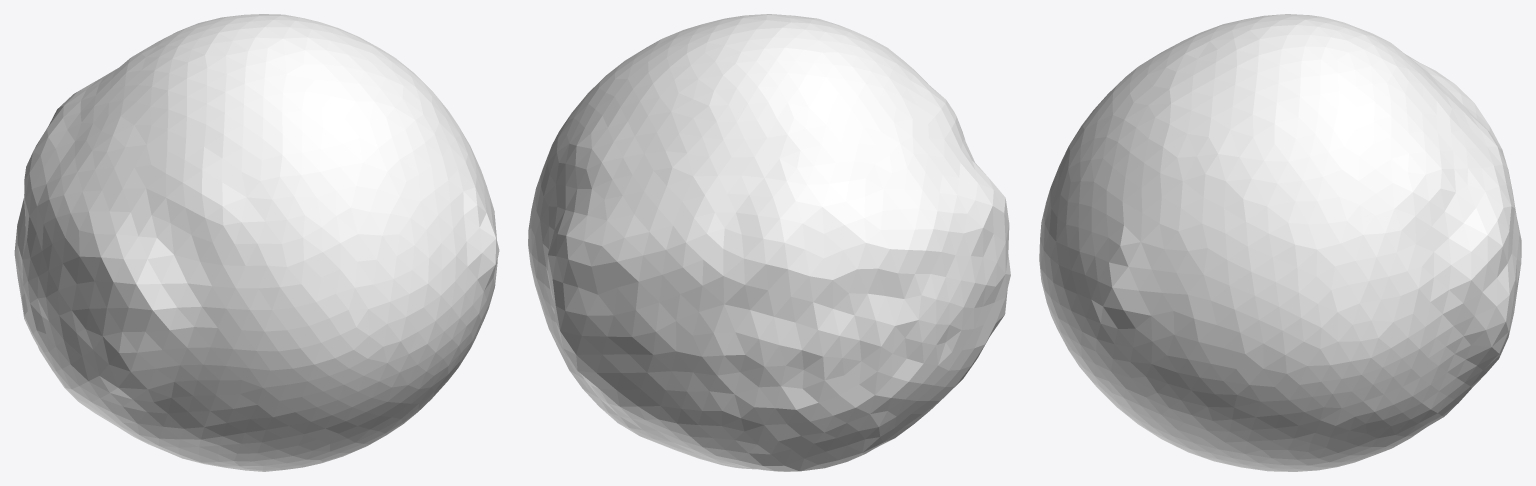
Rendered from plane_rotZ45[0.3,0.0,0.3]s1[-1.7,0.0,-1.7]._00010.obj.
3 views of the same model, side by side, from view 1: azimuth 30°, elevation 25°; view 2: azimuth 150°, elevation 25°; view 3: azimuth 270°, elevation 25° (orthographic).
Size of the model in its own units: 0.9897 by 0.9506 by 0.9893.
Materials: 1 (1 with a texture image).
